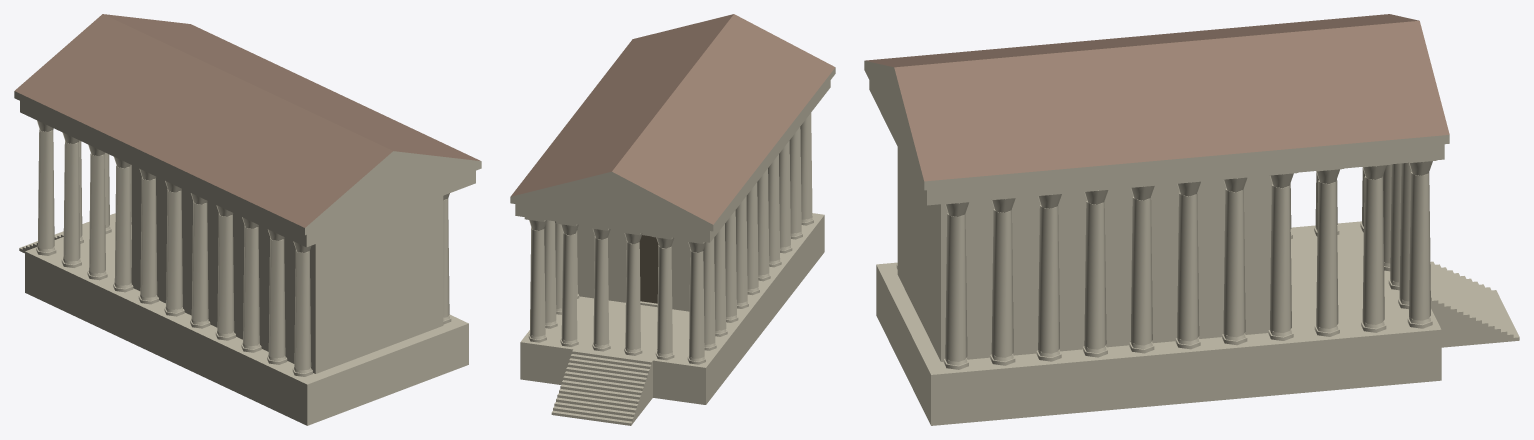
File: maison-carree-nimes-far.glb
3 views of the same model, side by side, from view 1: azimuth 30°, elevation 25°; view 2: azimuth 150°, elevation 25°; view 3: azimuth 270°, elevation 25° (orthographic). The views are drawn at different scales.
Parts seen in each view (by area): view 1: maison-carree-nimes-0-stone, maison-carree-nimes-0-roof; view 2: maison-carree-nimes-0-stone, maison-carree-nimes-0-roof, maison-carree-nimes-0-glass; view 3: maison-carree-nimes-0-stone, maison-carree-nimes-0-roof.
Part boxes in pixels (x1=…): maison-carree-nimes-0-stone: x1=14, y1=91, x2=481, y2=425; maison-carree-nimes-0-roof: x1=15, y1=14, x2=480, y2=227; maison-carree-nimes-0-stone: x1=510, y1=67, x2=835, y2=425; maison-carree-nimes-0-roof: x1=511, y1=14, x2=835, y2=224; maison-carree-nimes-0-glass: x1=639, y1=235, x2=658, y2=303; maison-carree-nimes-0-stone: x1=864, y1=60, x2=1519, y2=425; maison-carree-nimes-0-roof: x1=865, y1=14, x2=1449, y2=181.
Bounding box in the file's own units: 20.07 × 17 × 33.21.
